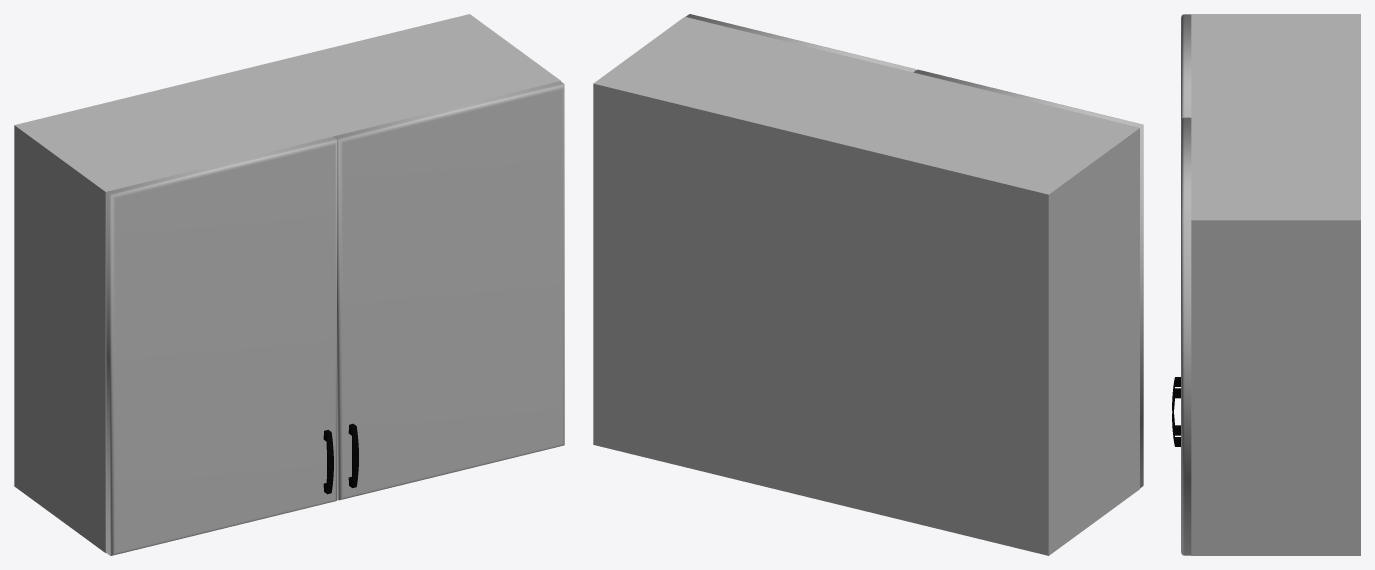
The picture shows the model from 3 angles, left to right: view 1: azimuth 30°, elevation 25°; view 2: azimuth 150°, elevation 25°; view 3: azimuth 270°, elevation 25°; orthographic projection. The views are drawn at different scales.
Parts seen in each view (by area): view 1: Box011, Box012, Box001; view 2: Box001, Box011, Box012; view 3: Box001, Box012, Box011.
Boxes of the visible parts, x1,y1,x2,y2 form: Box011: [106, 136, 336, 555]; Box012: [334, 81, 564, 500]; Box001: [14, 14, 560, 552]; Box001: [593, 17, 1139, 555]; Box011: [913, 69, 1143, 488]; Box012: [685, 14, 915, 72]; Box001: [1191, 14, 1360, 555]; Box012: [1181, 117, 1191, 555]; Box011: [1181, 14, 1191, 119].
Bounding box in the file's own units: 0.95 × 0.72 × 0.3671.
2 materials, 1 textured.
